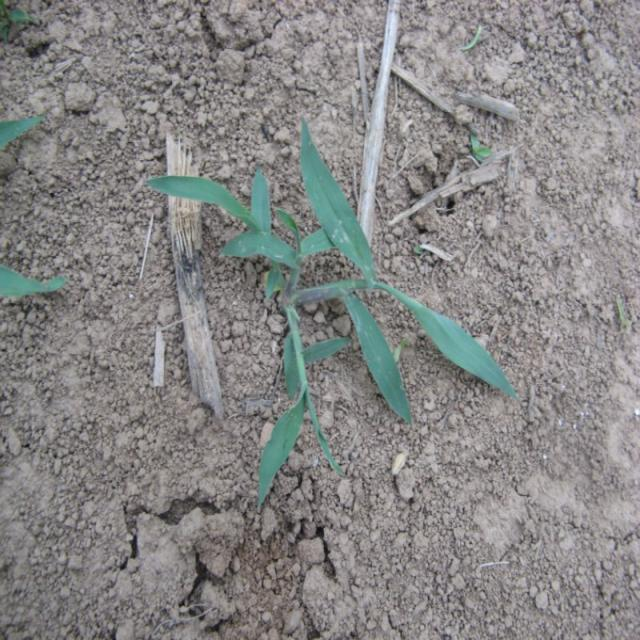bg: (144, 123, 517, 505)
